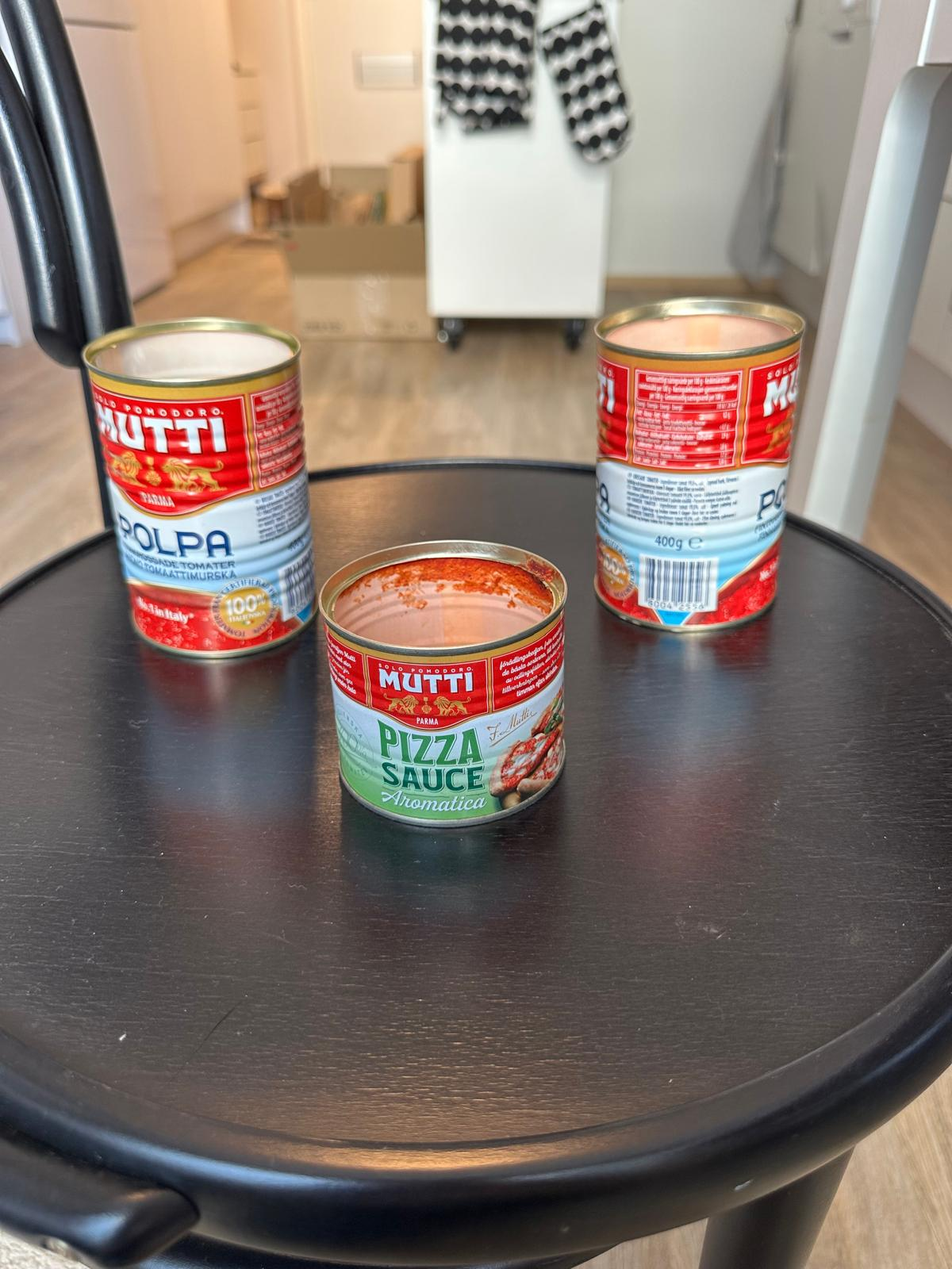Konservburk: (82, 318, 317, 660), (318, 539, 568, 828), (594, 295, 806, 634)
